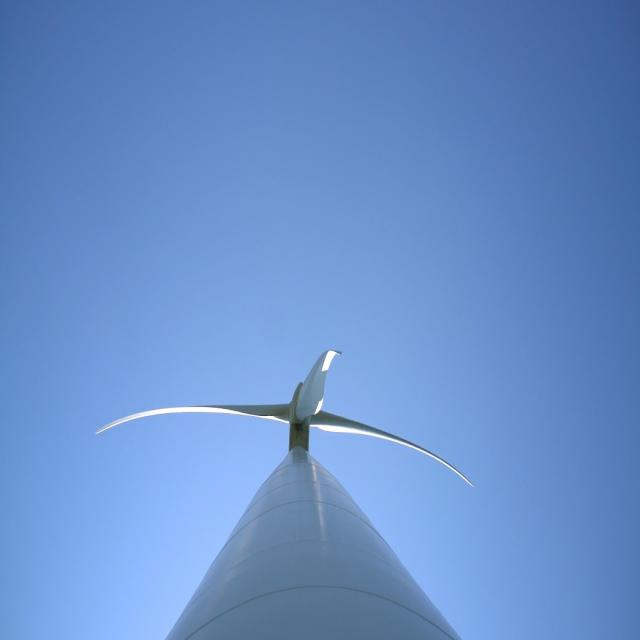blade 1: (87, 380, 280, 450)
blade 2: (302, 344, 361, 408)
blade 3: (370, 410, 474, 484)
